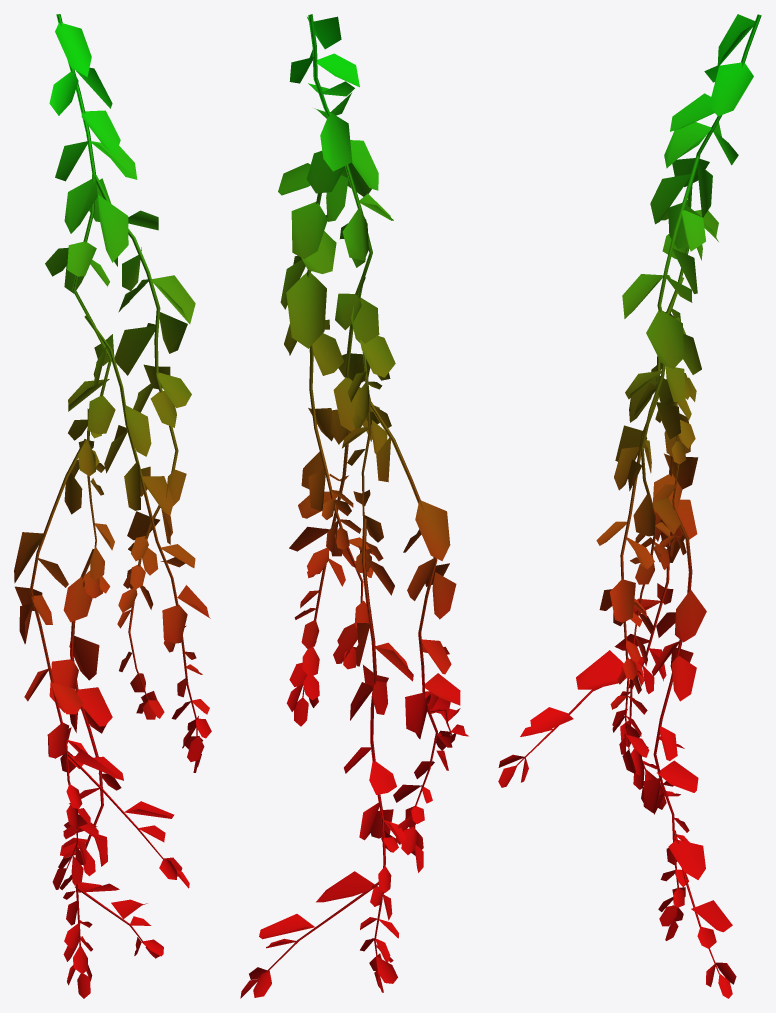
The model's file is Var10_LOD3.fbx.
3 views of the same model, side by side, from view 1: azimuth 30°, elevation 25°; view 2: azimuth 150°, elevation 25°; view 3: azimuth 270°, elevation 25° (orthographic). The views are drawn at different scales.
Parts seen in each view (by area): view 1: _6hf9_Var10_LOD3; view 2: _6hf9_Var10_LOD3; view 3: _6hf9_Var10_LOD3.
Part boxes in pixels (x1,y1,x2,y2): _6hf9_Var10_LOD3: [14, 14, 211, 998]; _6hf9_Var10_LOD3: [240, 14, 468, 998]; _6hf9_Var10_LOD3: [498, 14, 761, 998].
Bounding box in the file's own units: 24.25 × 129 × 32.6.
